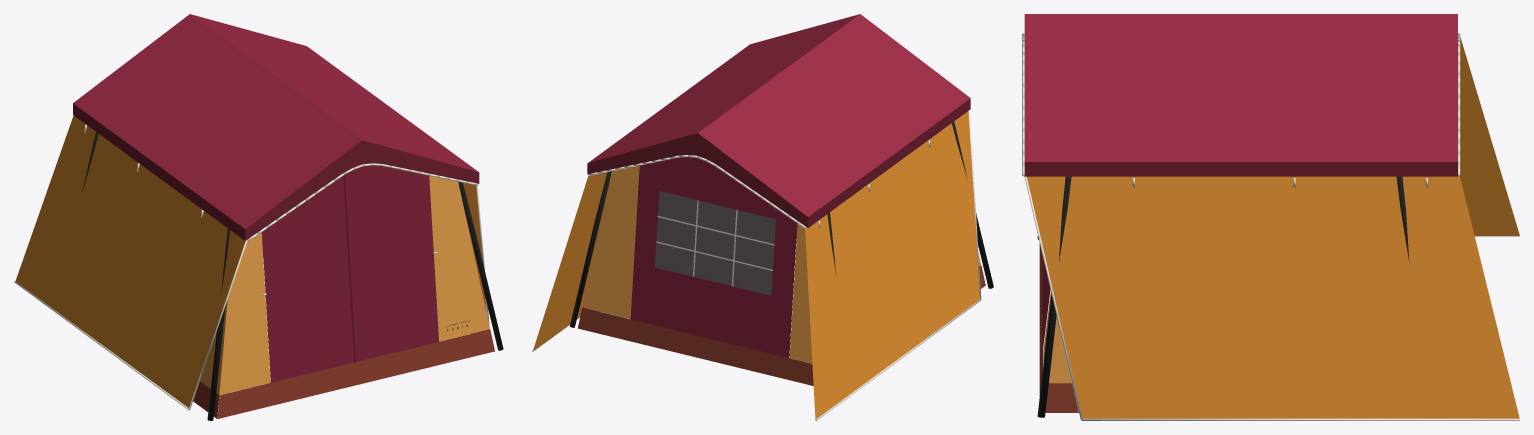
File: tentmark-purin.glb
The picture shows the model from 3 angles, left to right: view 1: azimuth 30°, elevation 25°; view 2: azimuth 150°, elevation 25°; view 3: azimuth 270°, elevation 25°; orthographic projection. The views are drawn at different scales.
Size of the model in its own units: 2.44 by 1.94 by 2.78.
